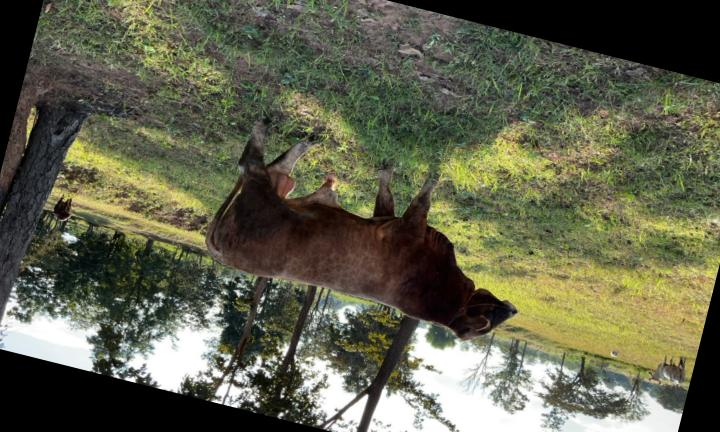Charolais: (206, 121, 516, 340)
